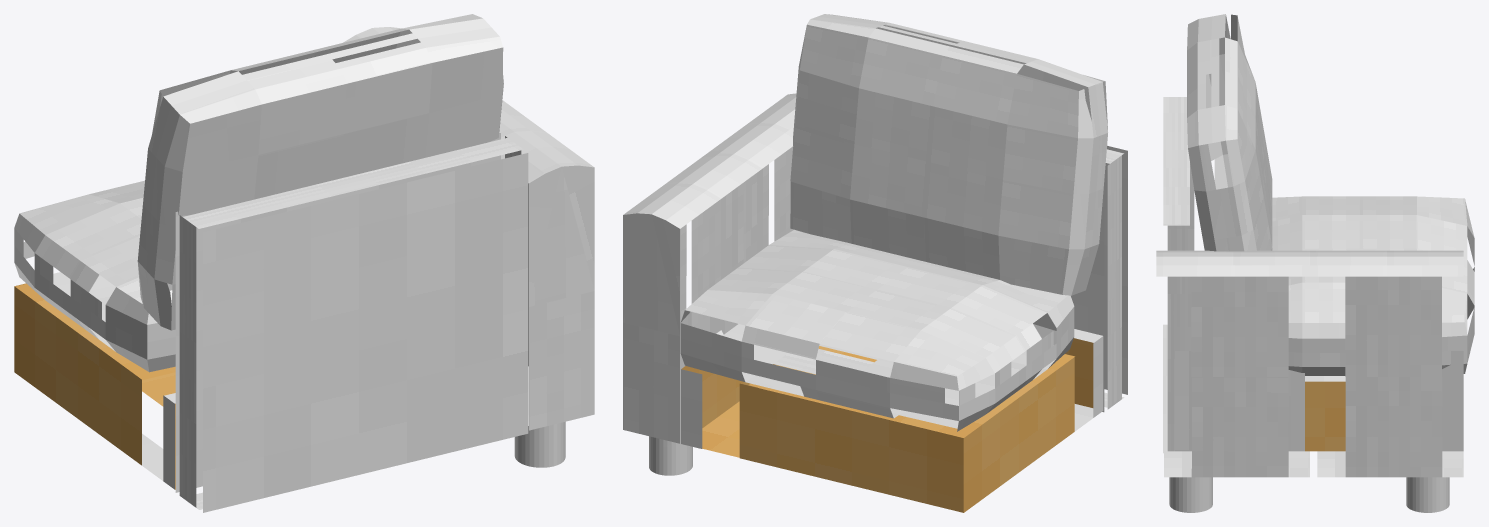
Rendered from simple_sofa_2.obj.
3 views of the same model, side by side, from view 1: azimuth 30°, elevation 25°; view 2: azimuth 150°, elevation 25°; view 3: azimuth 270°, elevation 25° (orthographic). The views are drawn at different scales.
Parts seen in each view (by area): view 1: Cube.004; view 2: Cube.004; view 3: Cube.004.
Part boxes in pixels (x1,y1,x2,y2): Cube.004: (14, 14, 594, 512); Cube.004: (623, 14, 1127, 512); Cube.004: (1156, 14, 1474, 512).
Size of the model in its own units: 2.11 by 2.21 by 1.79.
